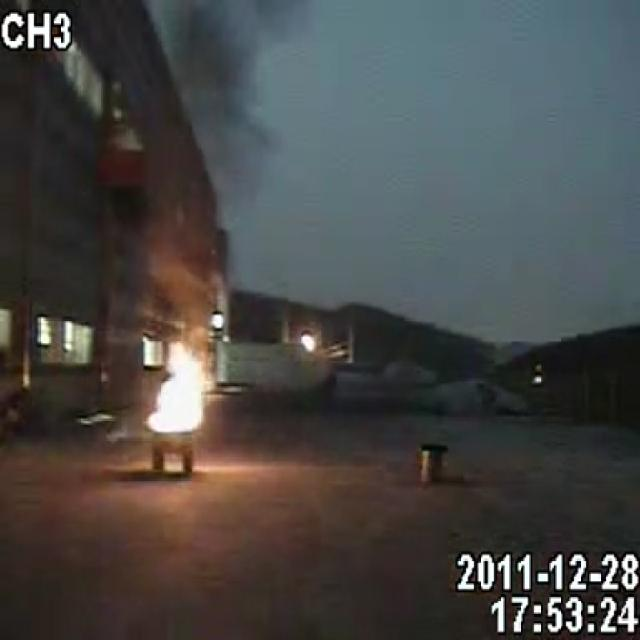Fire: (148, 340, 211, 432)
